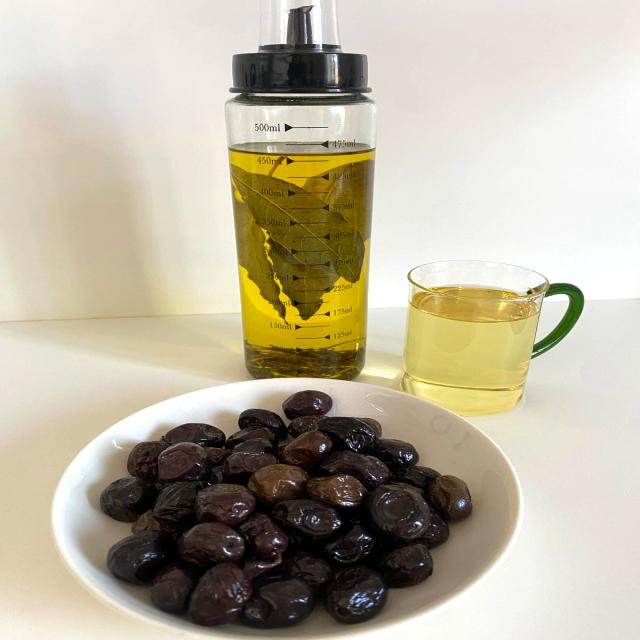olive: (152, 509, 271, 568), (174, 557, 258, 629), (235, 456, 328, 509), (368, 483, 435, 546), (148, 438, 224, 491)
olive oil: (246, 137, 382, 376), (408, 276, 552, 403)
